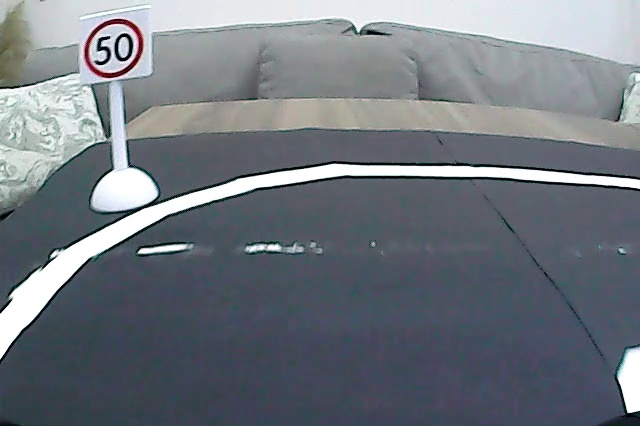speed limit 50: (83, 15, 146, 80)
